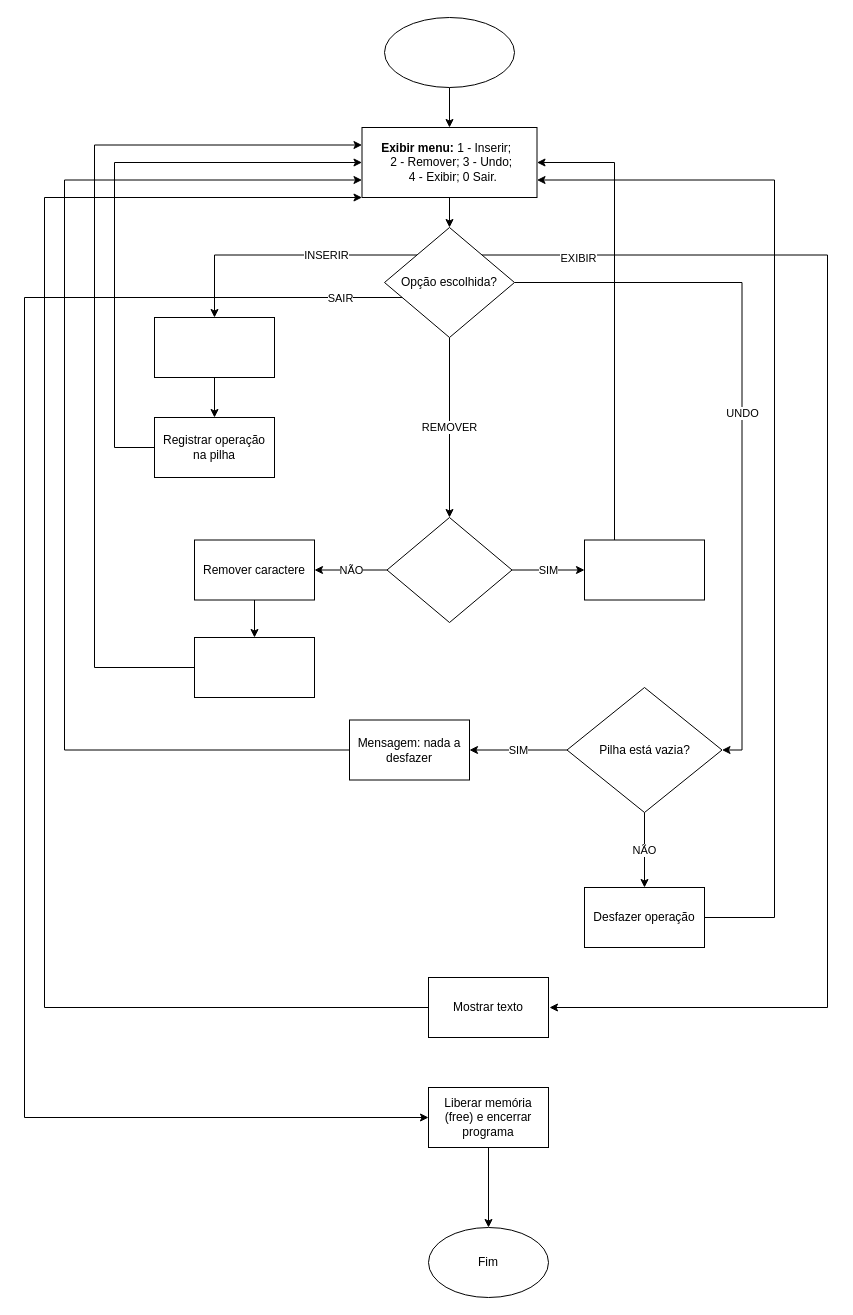
This 853x1315 diagram has some shape labels left out. The box of each missing label's shape, as (x1, y1, x2, y2) in pixels:
Inserir caractere: (154, 316, 274, 378)
Início: (384, 16, 514, 88)
Mensagem: texto vazio: (584, 539, 704, 600)
Registrar na pilha: (194, 636, 314, 698)
Texto está vazio?: (386, 516, 512, 622)
